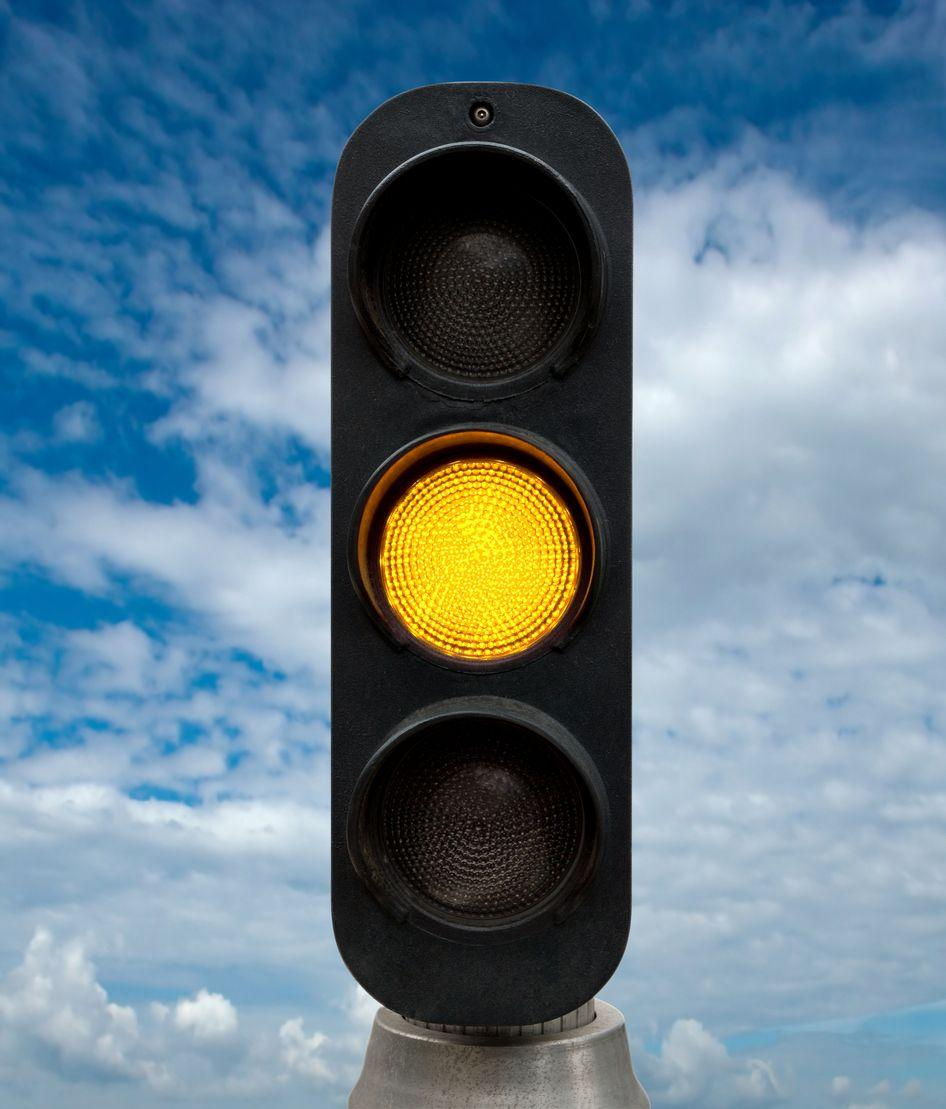traffic light: (329, 85, 633, 1025)
